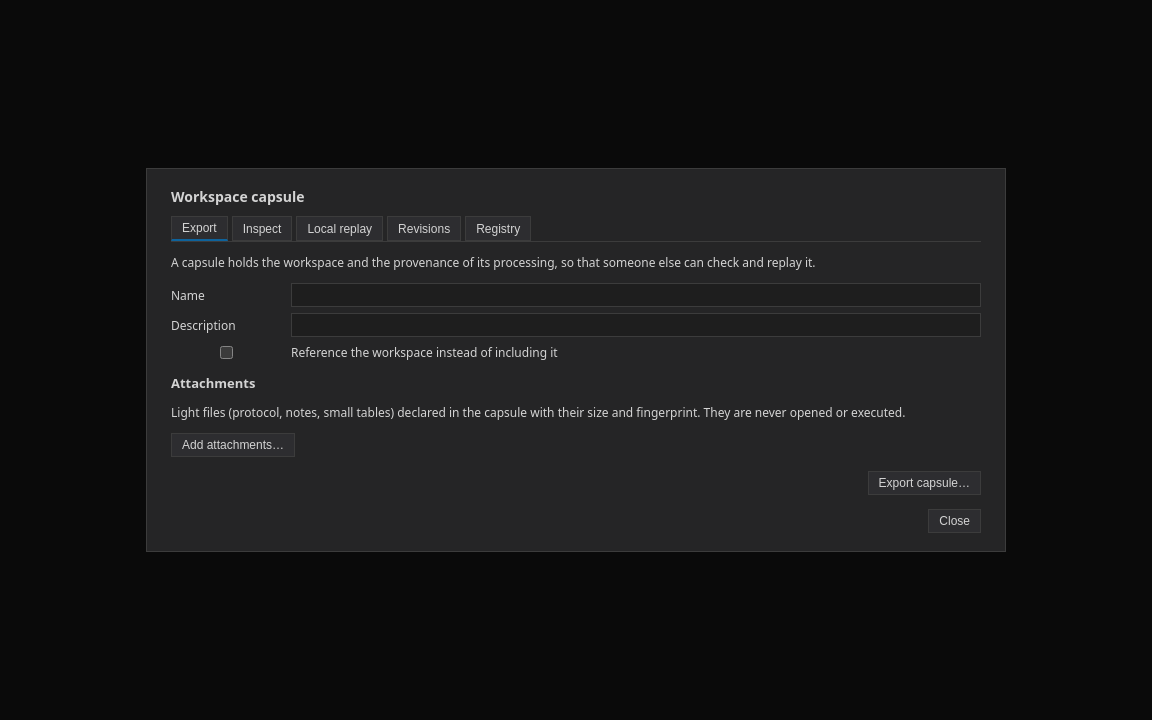
Test: CapsuleDialog export completion › shows a save error and makes the dialog usable again
This screenshot has width=1152, height=720.
In the field with test id "capsule-name": (636, 295) left=291, top=283, right=981, bottom=307, type "first"
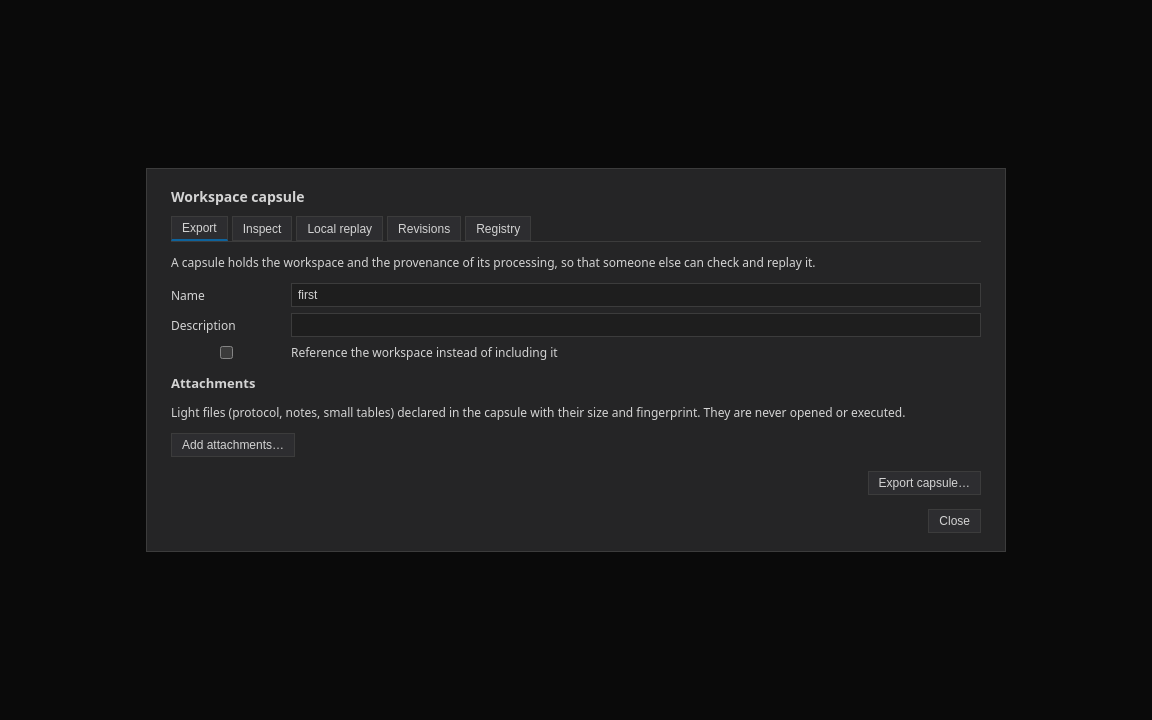
Click the button with test id "capsule-export-button": (924, 483) left=868, top=471, right=981, bottom=495
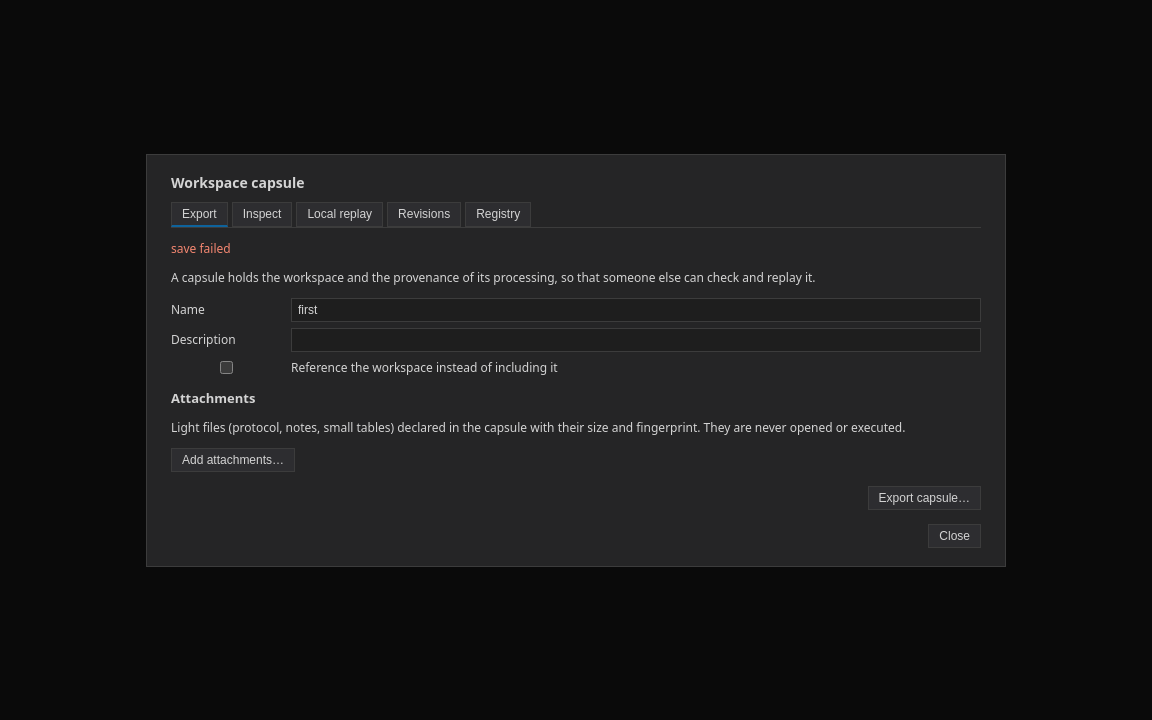
Expected: the button with test id "capsule-export-button" is enabled, left=868, top=486, right=981, bottom=510
Now the message with test id "capsule-error" reads "save failed", box left=171, top=240, right=231, bottom=256
